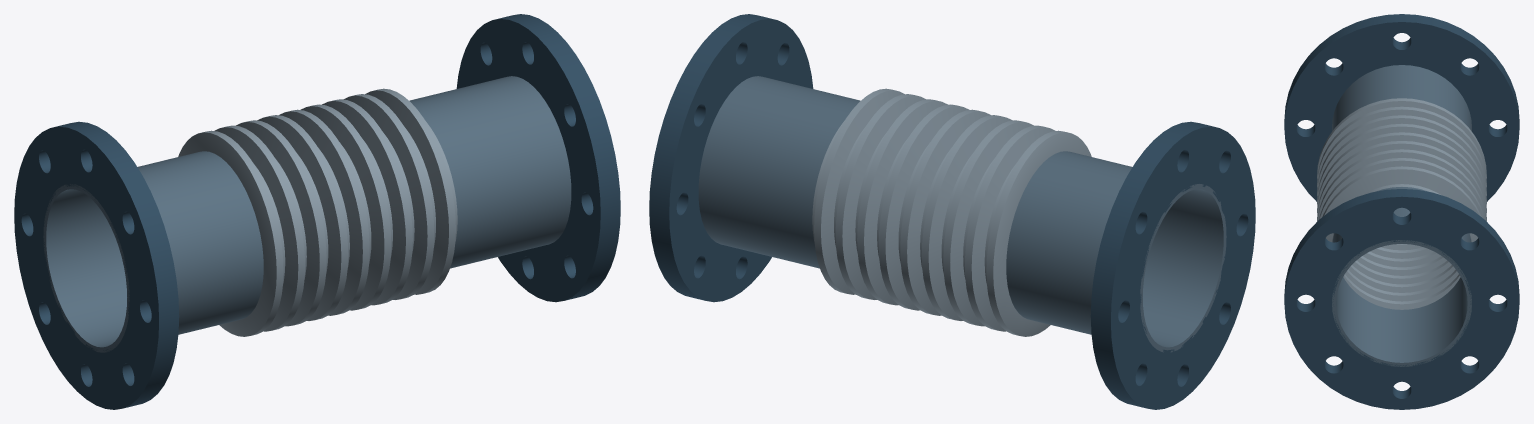
Rendered from flan-dn125-L410-D133-f.glb.
3 views of the same model, side by side, from view 1: azimuth 30°, elevation 25°; view 2: azimuth 150°, elevation 25°; view 3: azimuth 270°, elevation 25° (orthographic). The views are drawn at different scales.
Visible parts, largest first — view 1: prokladka_silfon_1, homut_flanec_1, patrubok_1, patrubok_2, homut_flanec_2; view 2: prokladka_silfon_1, homut_flanec_1, patrubok_1, patrubok_2, homut_flanec_2; view 3: homut_flanec_2, prokladka_silfon_1, homut_flanec_1, patrubok_2, patrubok_1.
Boxes of the visible parts, x1=… form: prokladka_silfon_1: x1=178, y1=88, x2=457, y2=336; homut_flanec_1: x1=14, y1=121, x2=179, y2=409; patrubok_1: x1=43, y1=151, x2=263, y2=352; patrubok_2: x1=409, y1=76, x2=571, y2=268; homut_flanec_2: x1=456, y1=14, x2=620, y2=302; prokladka_silfon_1: x1=812, y1=88, x2=1091, y2=336; homut_flanec_1: x1=1090, y1=121, x2=1255, y2=409; patrubok_1: x1=1006, y1=151, x2=1226, y2=352; patrubok_2: x1=698, y1=76, x2=860, y2=268; homut_flanec_2: x1=649, y1=14, x2=813, y2=302; homut_flanec_2: x1=1284, y1=189, x2=1519, y2=409; prokladka_silfon_1: x1=1317, y1=98, x2=1486, y2=309; homut_flanec_1: x1=1284, y1=14, x2=1519, y2=201; patrubok_2: x1=1332, y1=187, x2=1471, y2=366; patrubok_1: x1=1332, y1=65, x2=1471, y2=131.
Bounding box in the file's own units: 410 × 223 × 223.
